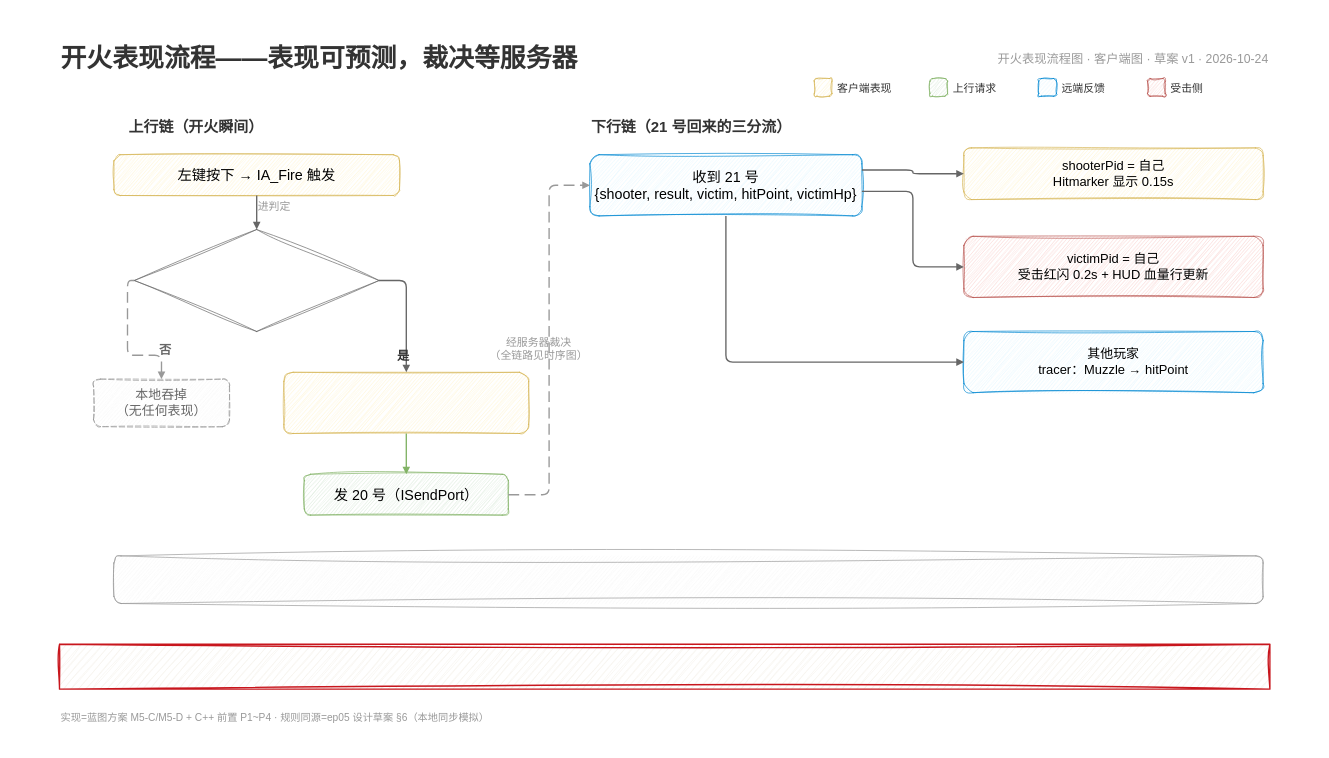
The diagram is 1329 pixels wide and 758 high, and some of its shapes have lost their labels. Here are the shapes that lost their labels. From the top down, the box of each, then its label:
(134, 229, 379, 332): 本地节流？ 间隔 ≥100ms · 弹匣有余 非换弹中
(283, 372, 529, 434): 播开火动画（AM_Code 包装蒙太奇） 本地扣弹——表现先动
(113, 555, 1263, 604): 本地节流常量与服务器同表（100ms 间隔 / 30 发弹匣 / 2.5s 自动换弹）——表现层预测，裁决层权威；本地漂了不纠偏（下局换弹自动对齐，D5-04）
(58, 643, 1270, 690): 表现可以预测（本地节流先动），裁决必须等服务器（21 号驱动一切反馈）
